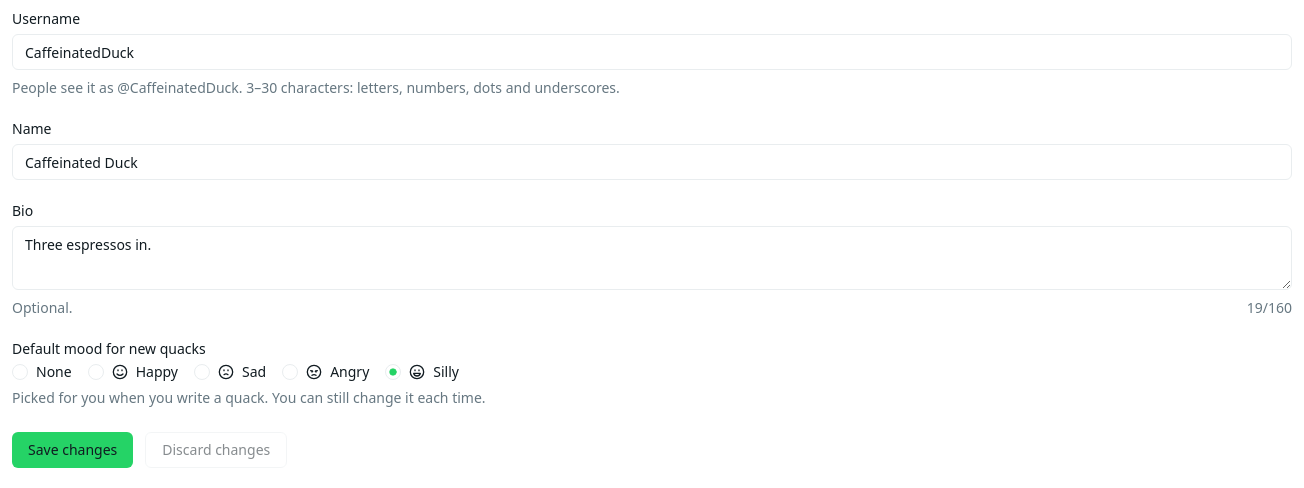
Test case: ProfileForm › discards back to the last save, not the first load
The width and height of the screenshot is (1304, 488).
Type "2" into the field labelled "Username" at {"x": 652, "y": 52}, box [12,34,1292,70]
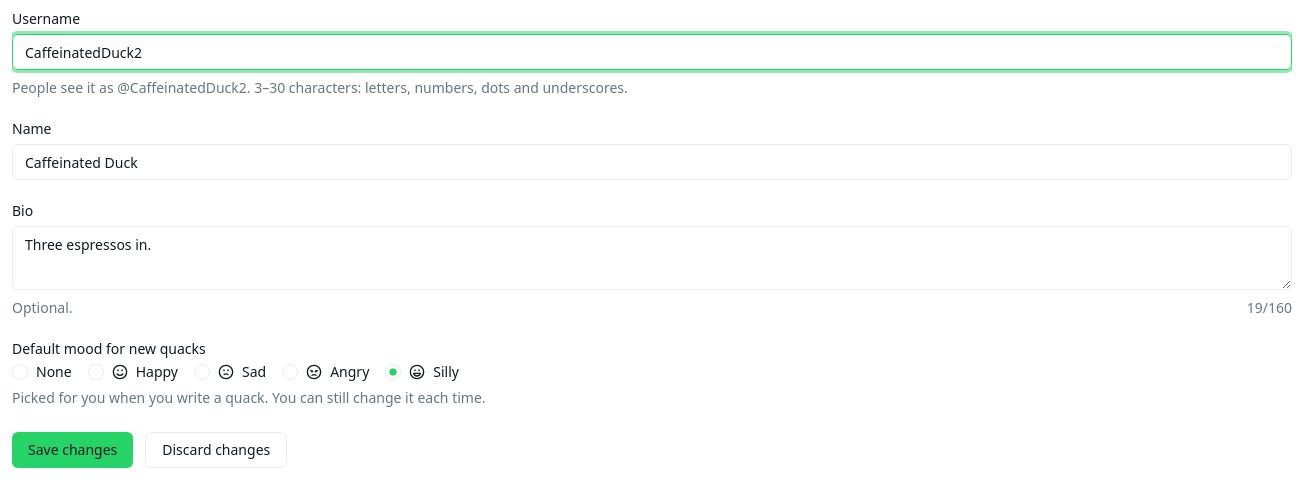
Click the button "Save changes" at {"x": 73, "y": 450}, box [12,432,133,468]
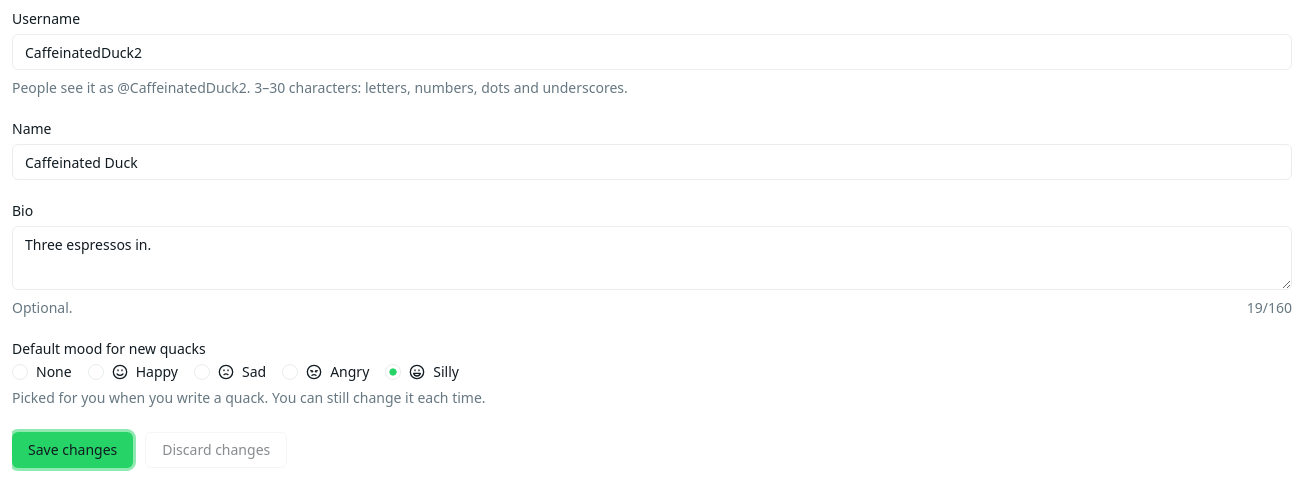
Type "3" into the field labelled "Username" at {"x": 652, "y": 52}, box [12,34,1292,70]
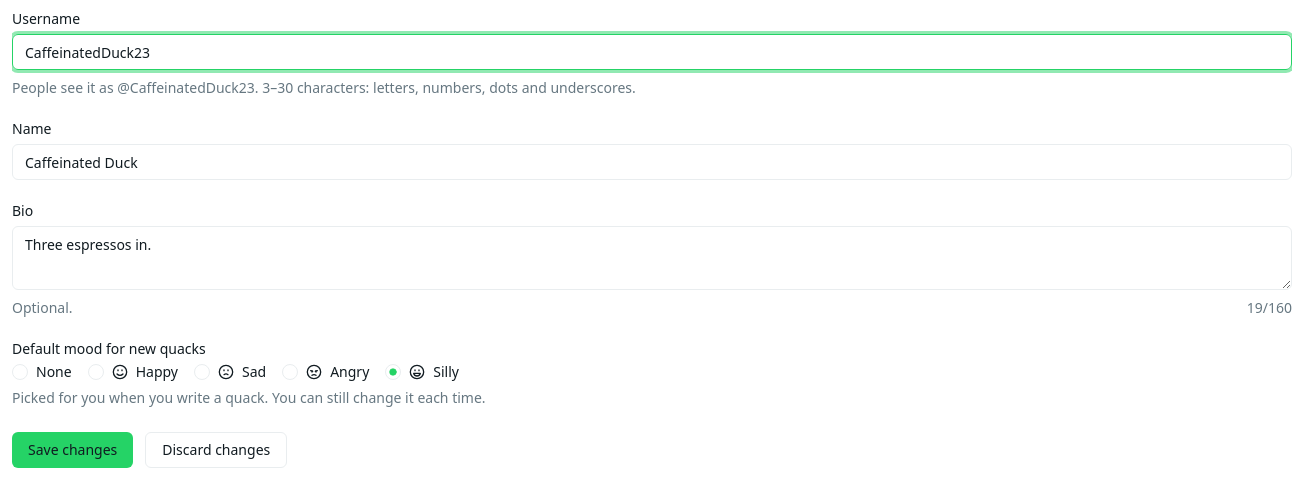
Click the button "Discard changes" at {"x": 216, "y": 450}, box [145,432,287,468]
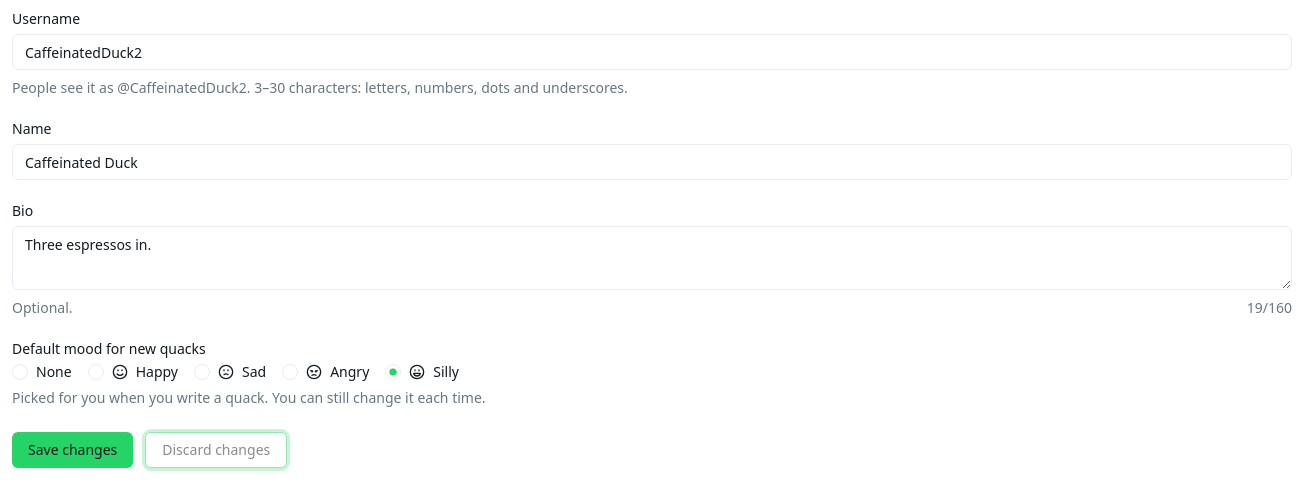
Expected: the field labelled "Username" holds "CaffeinatedDuck2", [12,34,1292,70]
